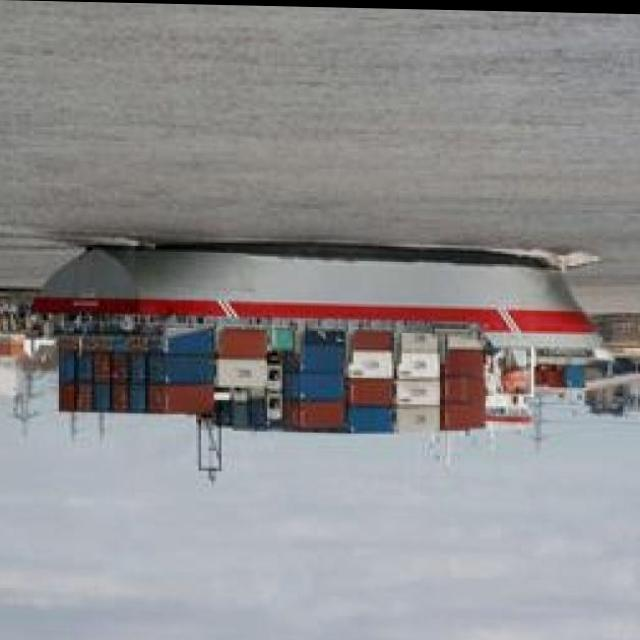ship2: (33, 237, 603, 481)
